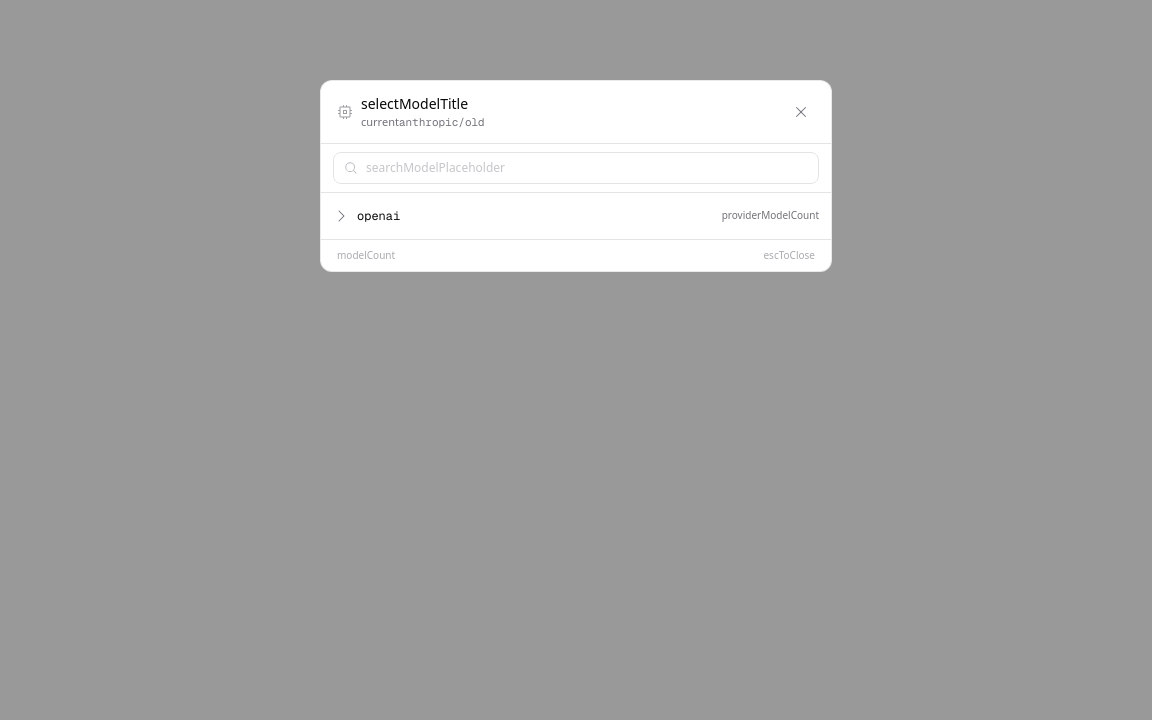
ModelPicker runtime confirmation › keeps cached choices visible when the open refresh fails
Click the button "openai providerModelCount". click: [379, 216]
box: [321,196,831,234]
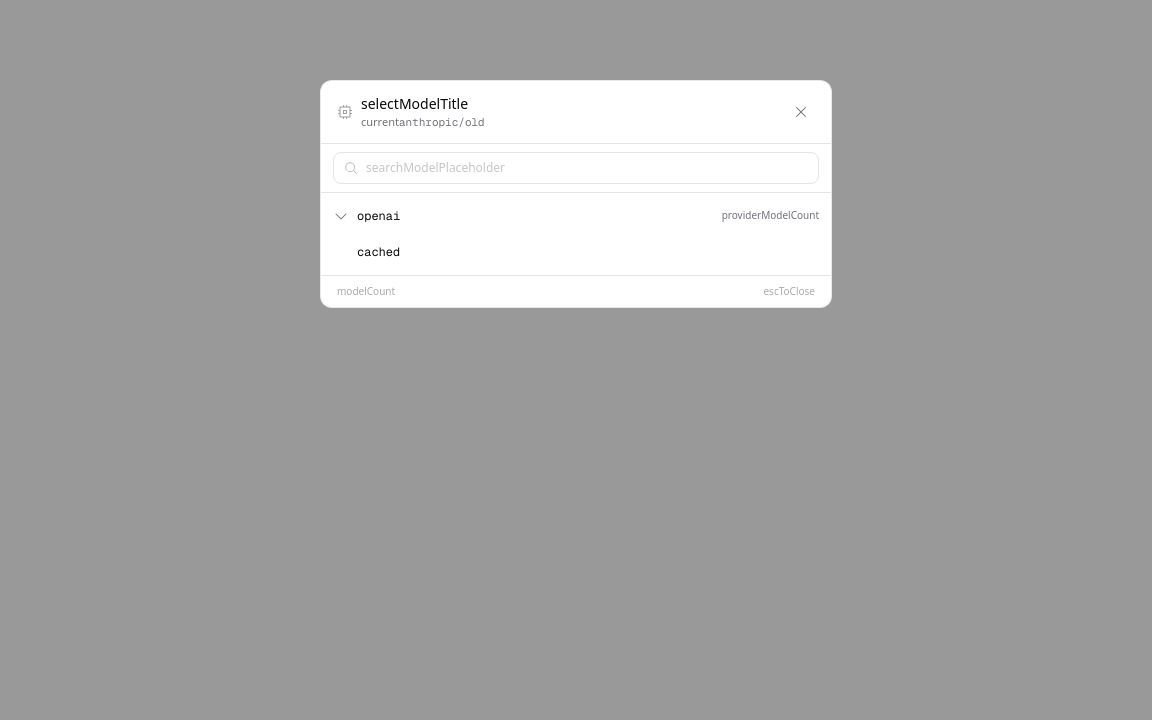
Check: the button "cached" is shown, box [321,234,831,268]
